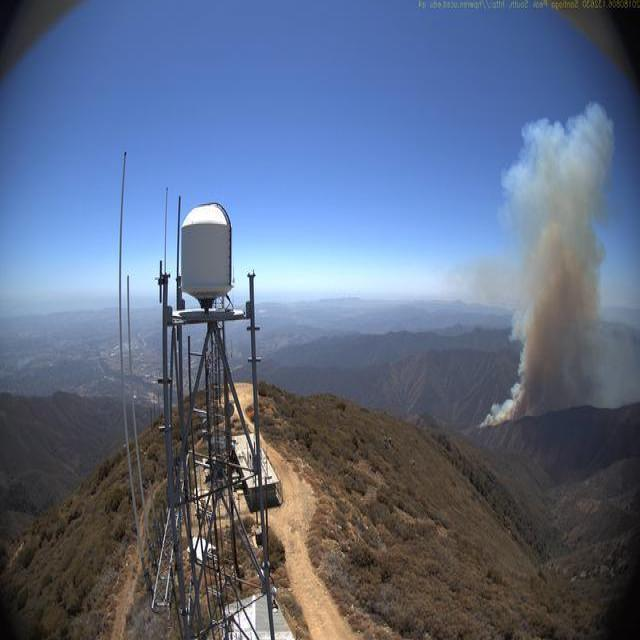Smoke: (475, 96, 639, 433)
